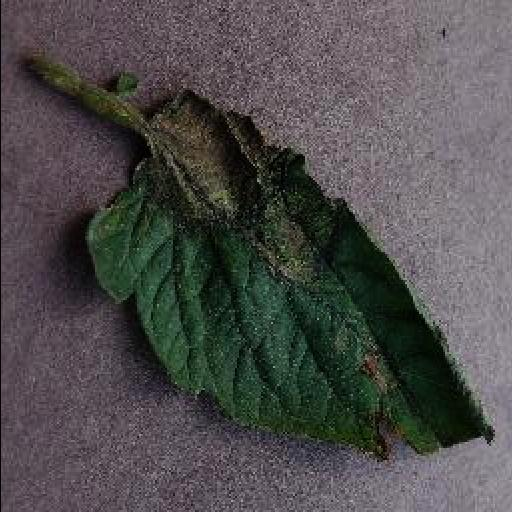disease_tomato: (83, 85, 493, 459)
